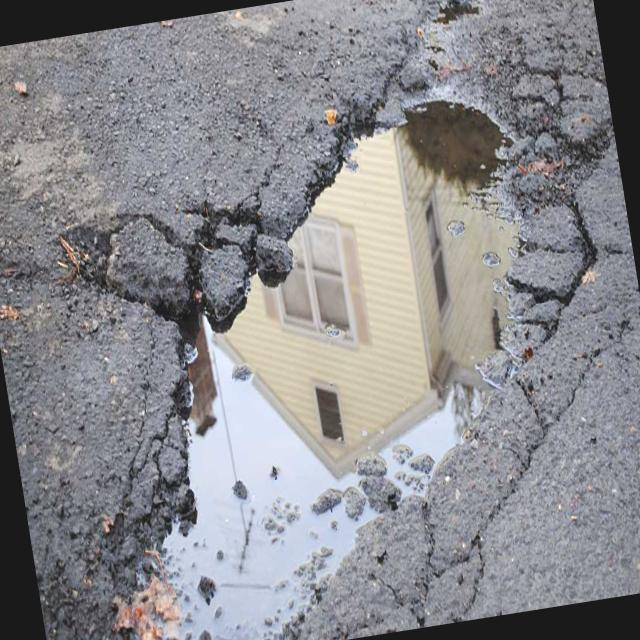bad-road: (46, 83, 593, 640), (509, 49, 640, 338)
